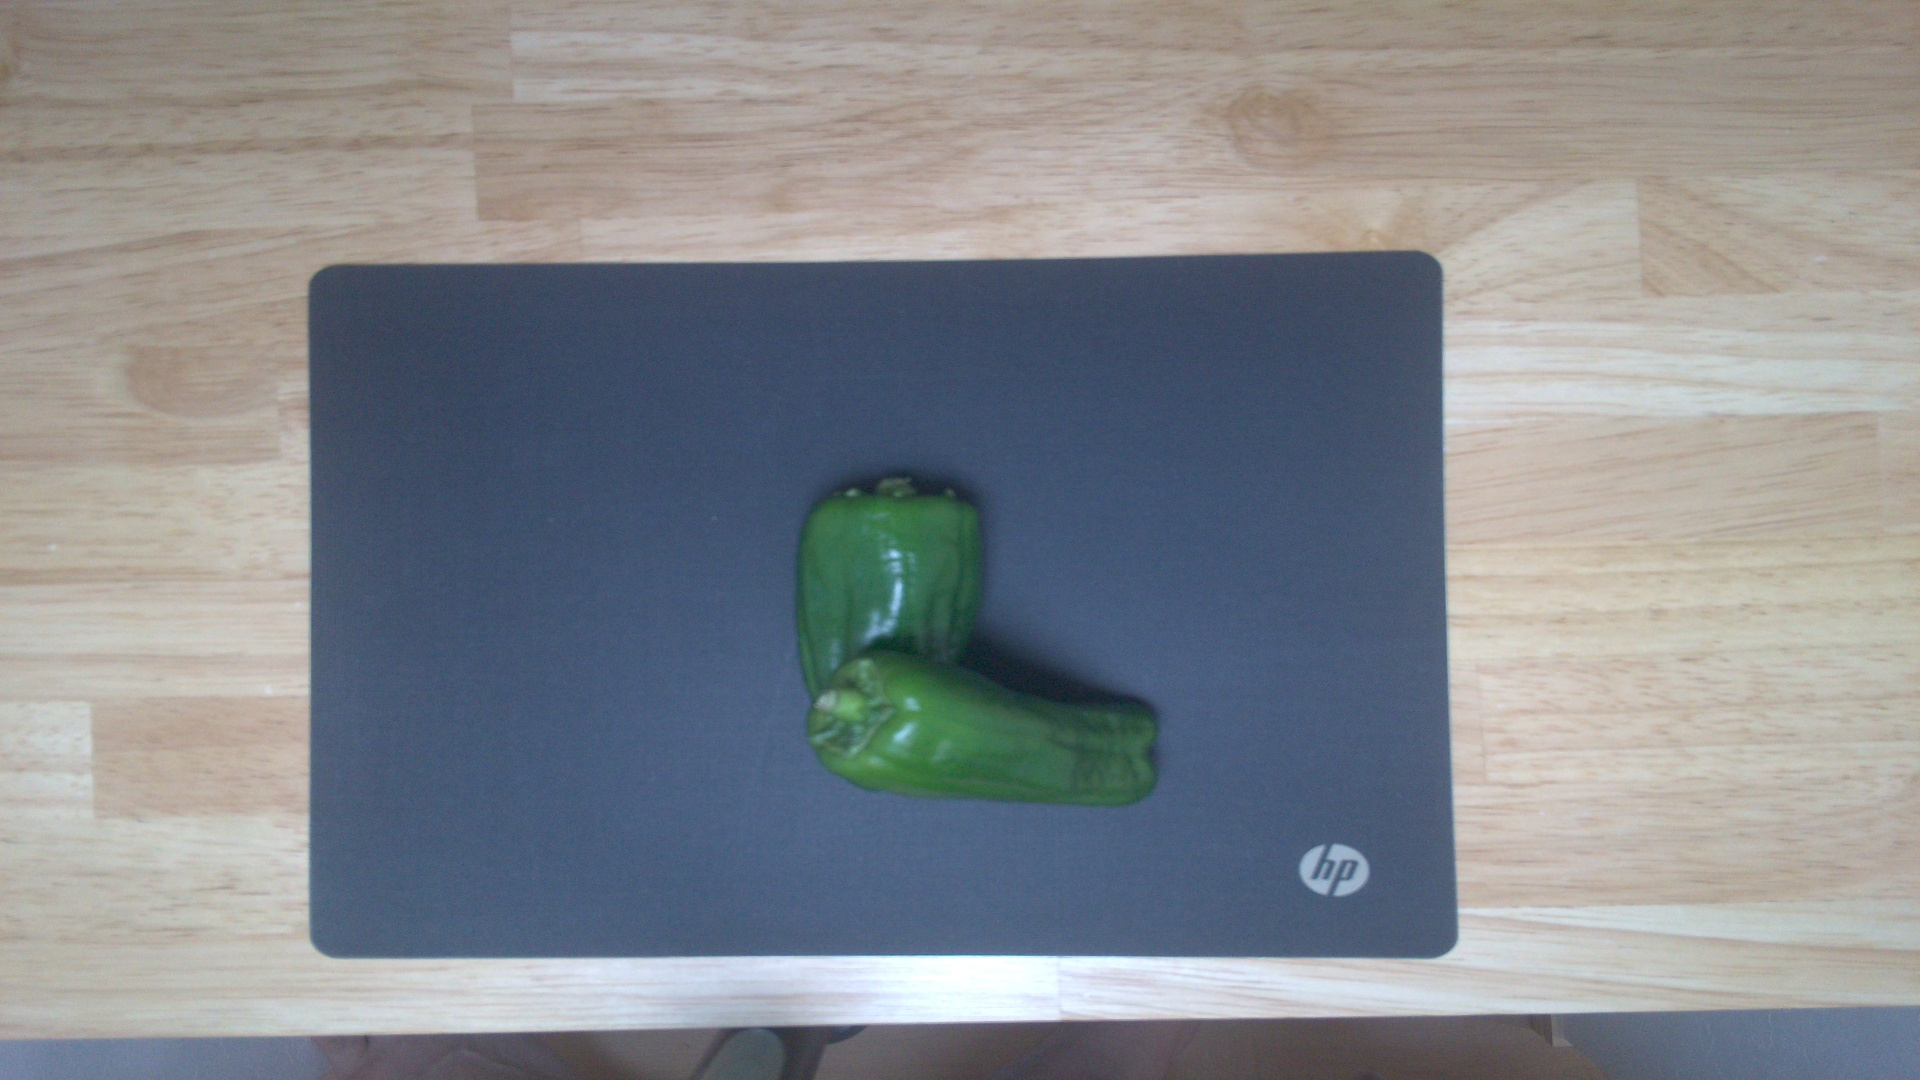Piman: (796, 472, 992, 804), (802, 654, 1164, 811)
